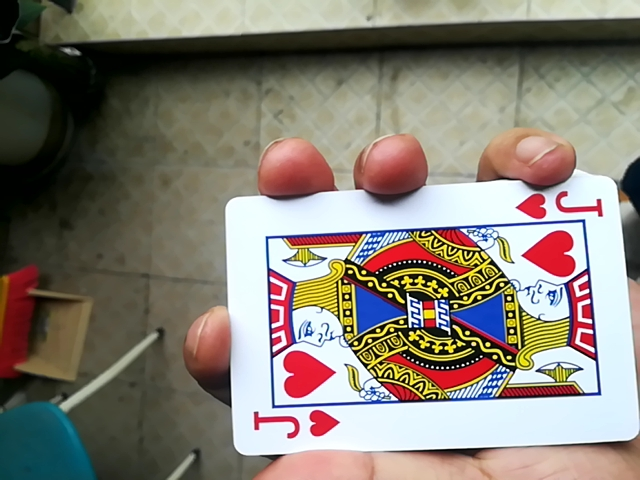hx j: (228, 179, 637, 454)
